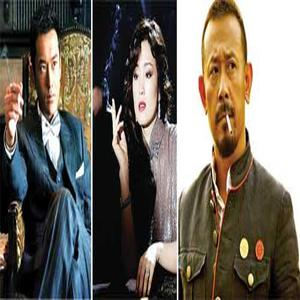cigarette: (226, 113, 232, 136), (105, 106, 117, 116)
